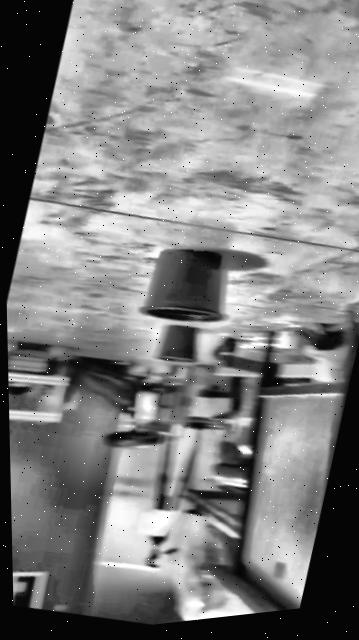pot: (138, 237, 240, 337), (153, 319, 204, 370)
